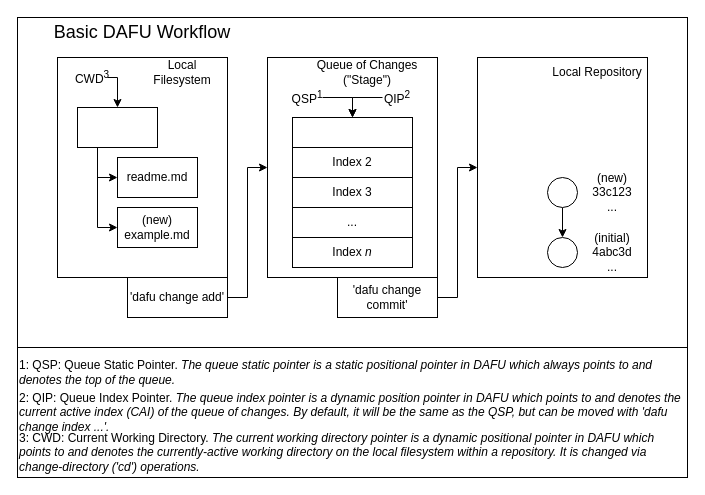
Image size: 705x495. Some labels were removed from this diagram. Each missing label, with the centre of its shape:
Index 1: + example.md: (x=352, y=132)
project/: (x=117, y=127)
